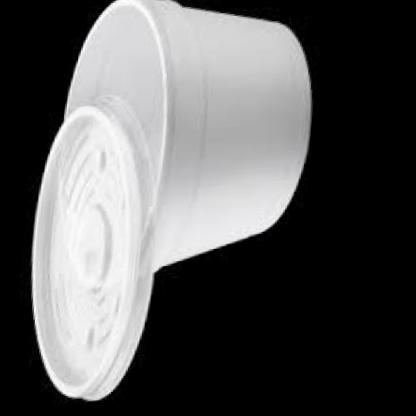trash: (32, 0, 310, 399)
